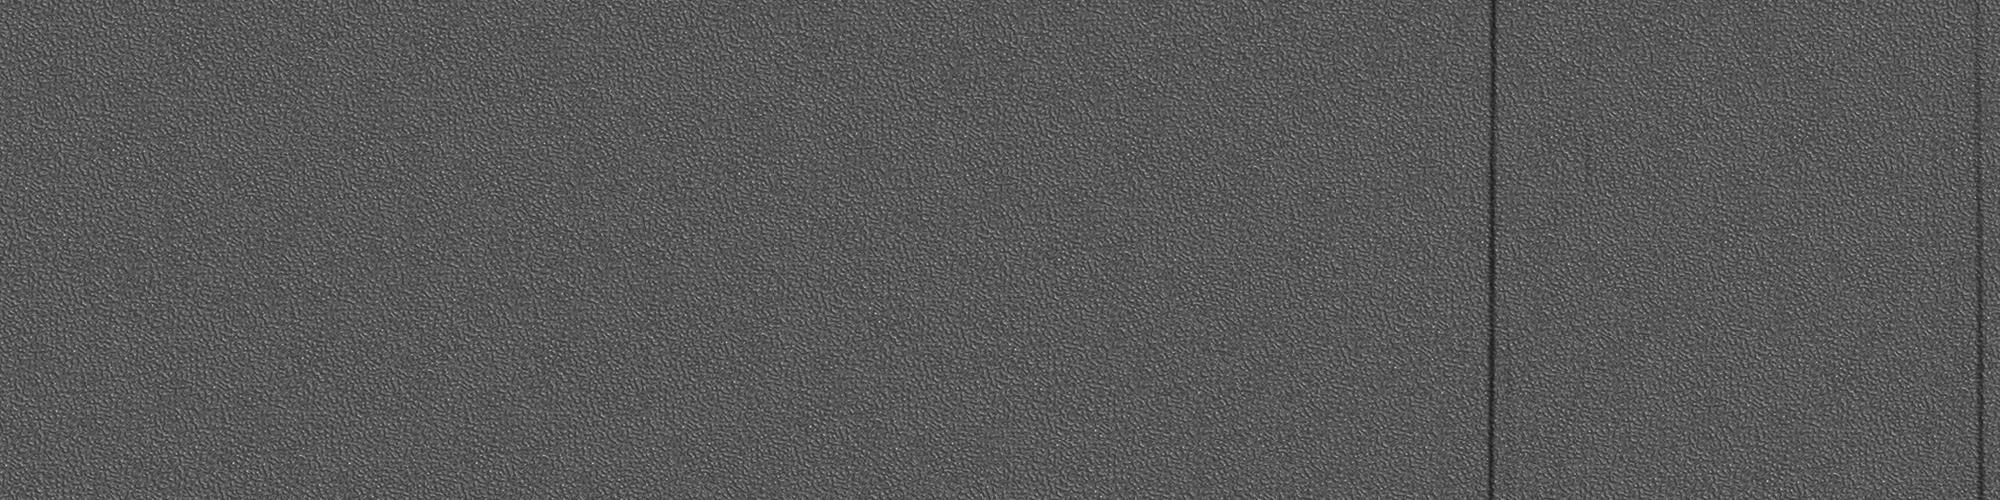DieDrag: (1469, 6, 1517, 499), (1966, 5, 1992, 497)
